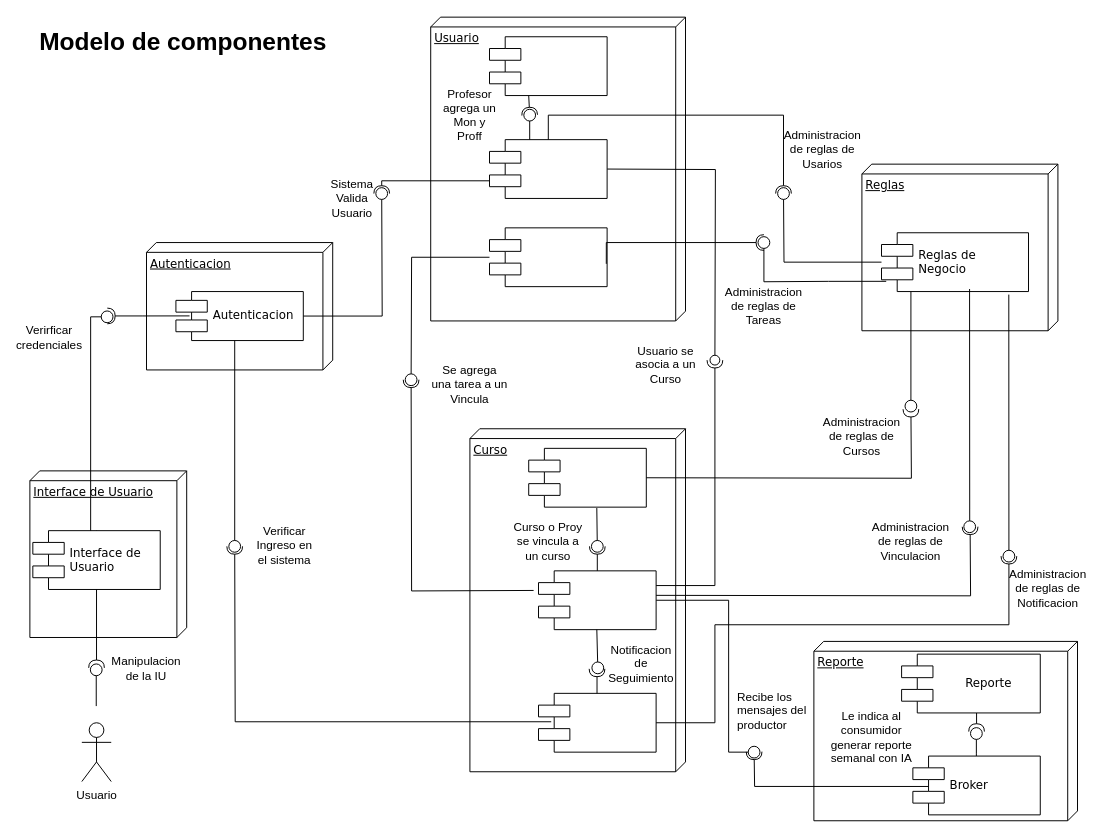
Image size: 1103x838. Some labels were removed from this diagram. Each missing label, with the centre of its shape:
Curso y Proyecto: [587,477]
Monitor y Asistente de Profesor: [548,168]
Notificacion: [597,722]
Profesor: [548,66]
Tareas: [548,257]
Vinculacion: [597,600]
